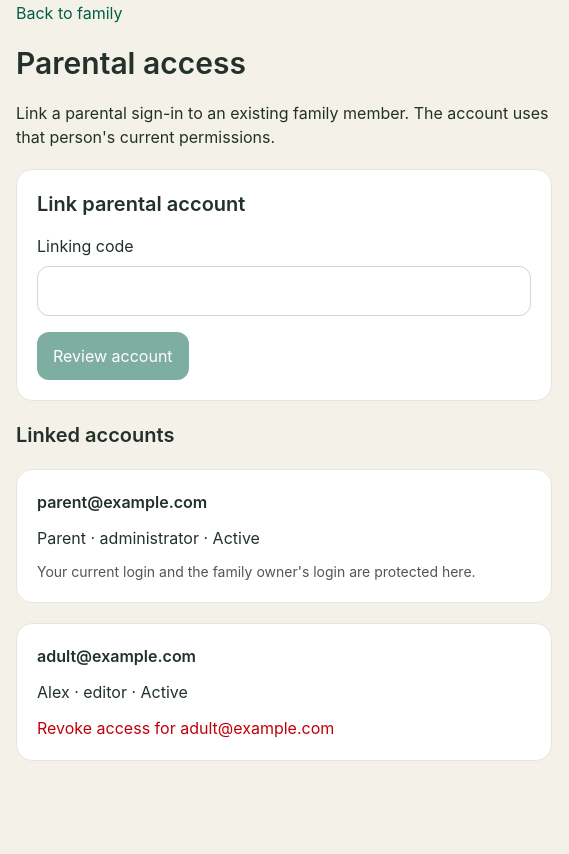
it: requires named revocation confirmation and keeps the review after a failed request
This screenshot has width=569, height=854.
Click the button "Revoke access for adult@example.com" at x=186, y=728, box [37,716,334,740]
(page scrolled)
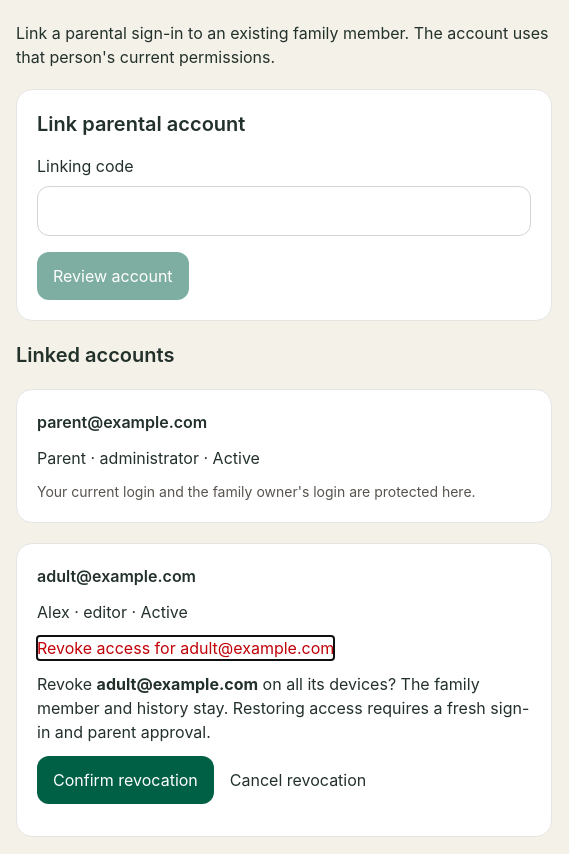
Click the button "Confirm revocation" at x=125, y=780, box [37,756,214,804]
(page scrolled)
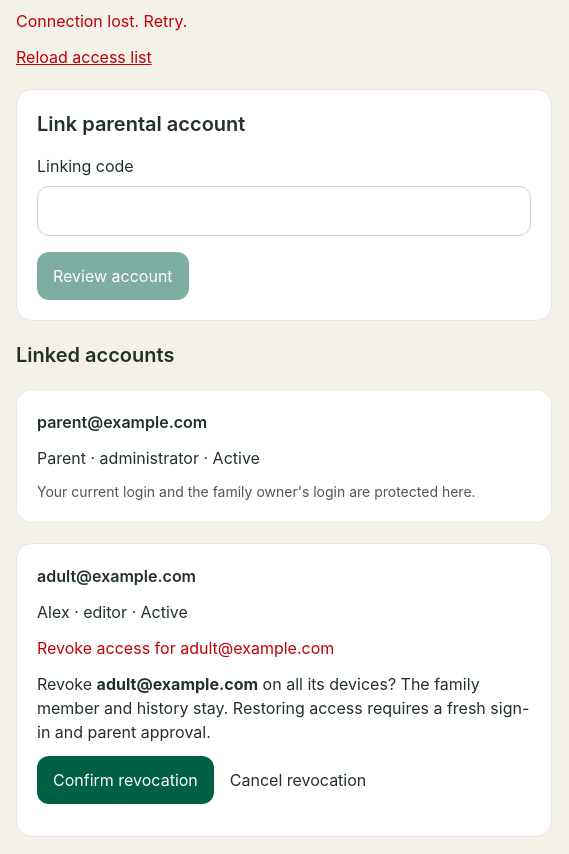
Check: the button "Confirm revocation" is shown, box [37,756,214,804]
Check: the message shows "Connection lost", box [16,11,187,31]
